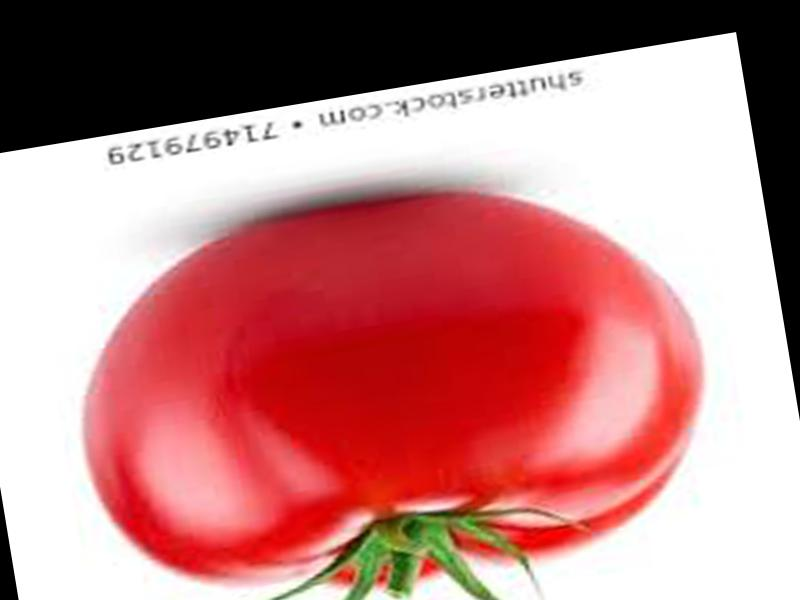Tomato: (54, 155, 731, 600)
